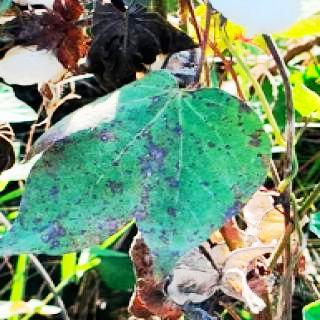leaf spot: (11, 51, 272, 278)
